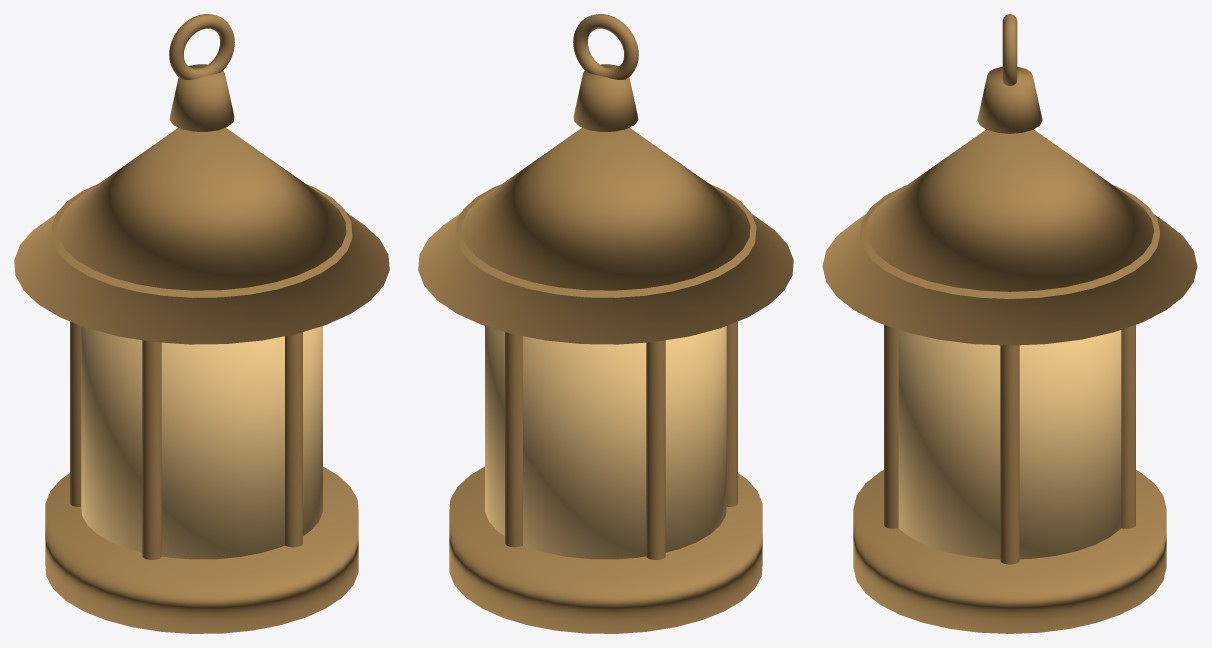
Rendered from TASK007-PROP-UNITY-PROPS_LANTERN_HANG.fbx.
The picture shows the model from 3 angles, left to right: view 1: azimuth 30°, elevation 25°; view 2: azimuth 150°, elevation 25°; view 3: azimuth 270°, elevation 25°; orthographic projection.
Parts seen in each view (by area): view 1: part_cap, part_glass, part_dish, part_rib_3, part_rib_4, part_crown, part_neck, part_ring_top, part_rib_2; view 2: part_cap, part_glass, part_dish, part_rib_2, part_rib_1, part_crown, part_neck, part_ring_top, part_rib_3; view 3: part_cap, part_glass, part_dish, part_rib_0, part_crown, part_neck, part_rib_1, part_rib_4, part_ring_top.
Boxes of the visible parts, x1=… form: part_cap: x1=14, y1=127, x2=389, y2=344; part_glass: x1=81, y1=326, x2=322, y2=559; part_dish: x1=45, y1=466, x2=358, y2=633; part_rib_3: x1=142, y1=340, x2=161, y2=559; part_rib_4: x1=285, y1=332, x2=302, y2=547; part_crown: x1=51, y1=184, x2=352, y2=297; part_neck: x1=169, y1=64, x2=234, y2=131; part_ring_top: x1=169, y1=14, x2=234, y2=79; part_rib_2: x1=70, y1=321, x2=81, y2=506; part_cap: x1=418, y1=127, x2=793, y2=344; part_glass: x1=485, y1=326, x2=726, y2=559; part_dish: x1=449, y1=466, x2=762, y2=633; part_rib_2: x1=646, y1=340, x2=665, y2=559; part_rib_1: x1=505, y1=332, x2=522, y2=547; part_crown: x1=455, y1=184, x2=756, y2=297; part_neck: x1=573, y1=64, x2=638, y2=131; part_ring_top: x1=573, y1=14, x2=638, y2=79; part_rib_3: x1=726, y1=321, x2=737, y2=506; part_cap: x1=822, y1=129, x2=1197, y2=345; part_glass: x1=898, y1=330, x2=1121, y2=559; part_dish: x1=853, y1=470, x2=1166, y2=633; part_rib_0: x1=1000, y1=345, x2=1019, y2=564; part_crown: x1=860, y1=185, x2=1159, y2=298; part_neck: x1=977, y1=66, x2=1042, y2=133; part_rib_1: x1=1121, y1=325, x2=1135, y2=528; part_rib_4: x1=884, y1=325, x2=898, y2=528; part_ring_top: x1=1002, y1=14, x2=1017, y2=85.
Size of the model in its own units: 23 by 39.65 by 23.
